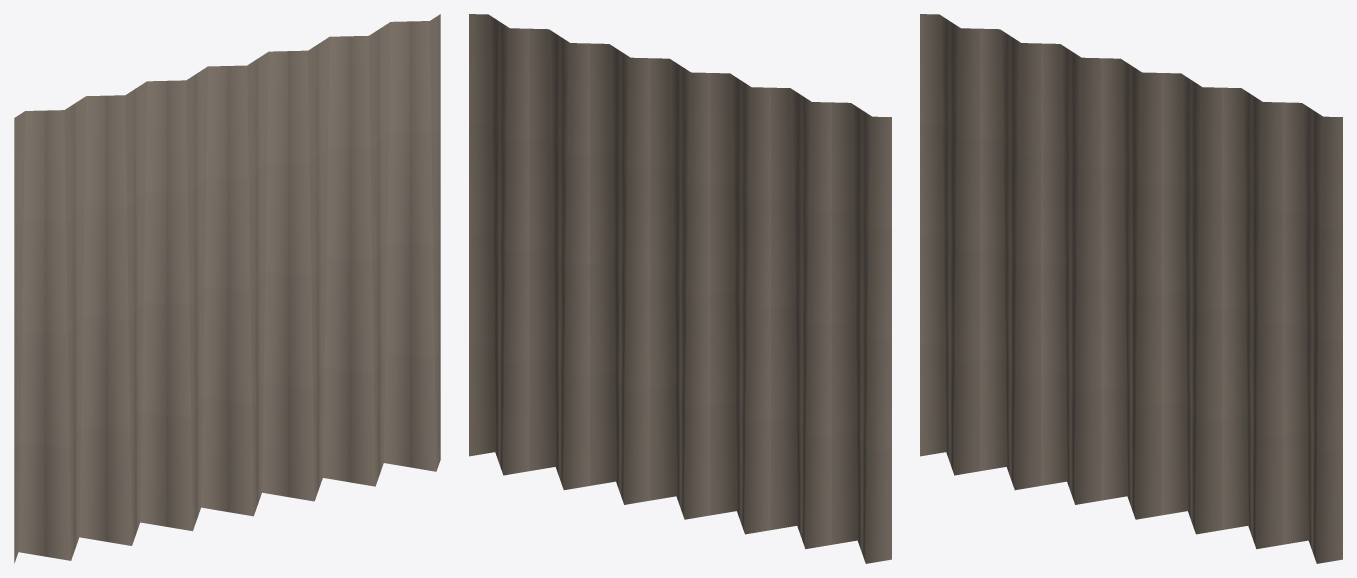
Rendered from curtain.glb.
3 views of the same model, side by side, from view 1: azimuth 30°, elevation 25°; view 2: azimuth 150°, elevation 25°; view 3: azimuth 330°, elevation 25° (orthographic).
Parts seen in each view (by area): view 1: curtain; view 2: curtain; view 3: curtain.
Boxes of the visible parts, box(x1,y1,x2,y2) form: curtain: box(14, 14, 440, 563); curtain: box(469, 14, 891, 563); curtain: box(920, 14, 1342, 563).
Size of the model in its own units: 1 by 1 by 0.09.
